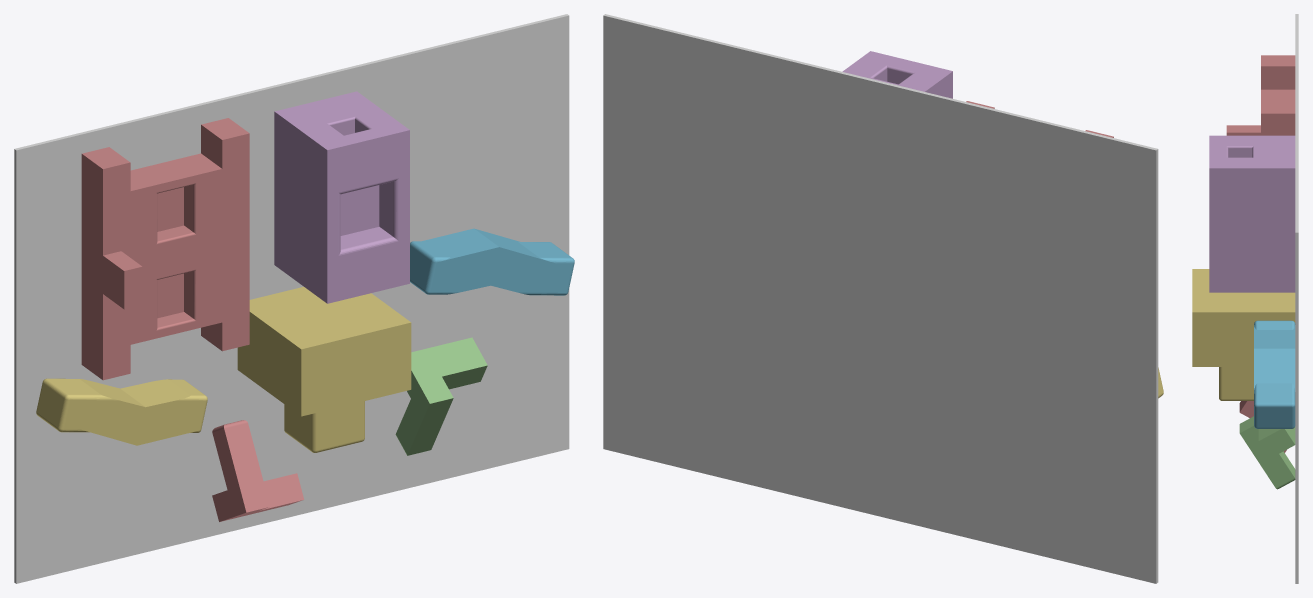
Rendered from pickup_layout.glb.
3 renders of one model, left to right at view 1: azimuth 30°, elevation 25°; view 2: azimuth 150°, elevation 25°; view 3: azimuth 270°, elevation 25°, orthographic. The views are drawn at different scales.
Visible parts, largest first — view 1: world, 0.obj, 3.obj, 6.obj, 1.obj, 2.obj, 4.obj, 5.obj; view 2: world, 3.obj; view 3: 3.obj, 6.obj, 2.obj, 0.obj, 4.obj, world, 5.obj.
Boxes of the visible parts, x1,y1,x2,y2 form: world: (14,14,569,583); 0.obj: (81,118,249,380); 3.obj: (274,91,409,303); 6.obj: (237,286,411,452); 1.obj: (36,378,207,445); 2.obj: (410,228,574,295); 4.obj: (395,337,487,455); 5.obj: (212,420,304,521); world: (603,14,1158,583); 3.obj: (842,51,952,98); 3.obj: (1209,135,1295,292); 6.obj: (1192,269,1295,400); 2.obj: (1254,320,1295,428); 0.obj: (1226,55,1295,135); 4.obj: (1239,416,1295,489); world: (1295,14,1298,583); 5.obj: (1239,401,1286,452).
Size of the model in its own units: 30.14 by 22.58 by 6.2.
